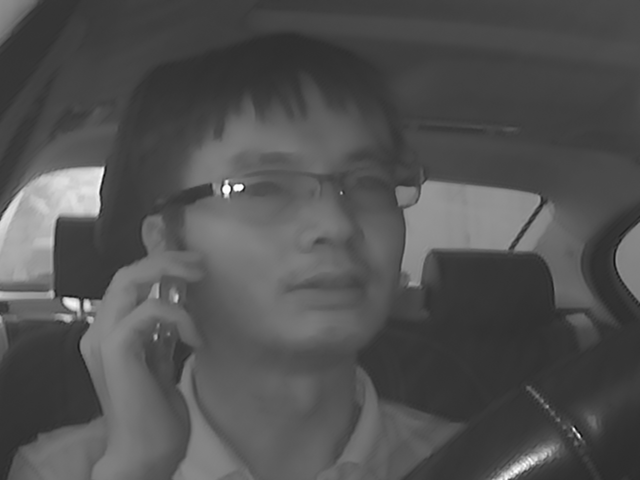hand: (74, 247, 212, 458)
